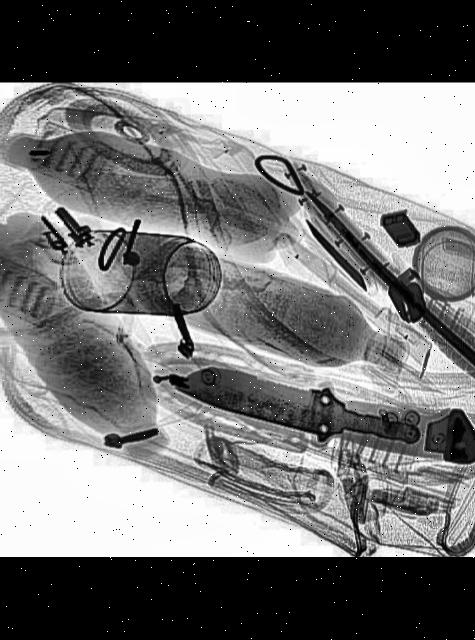Knife: (295, 183, 475, 401), (168, 354, 426, 462)
